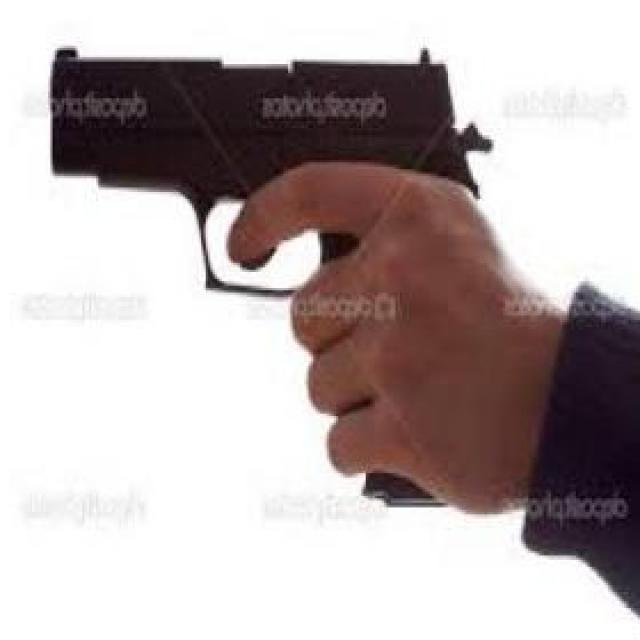pistol: (40, 30, 498, 513)
